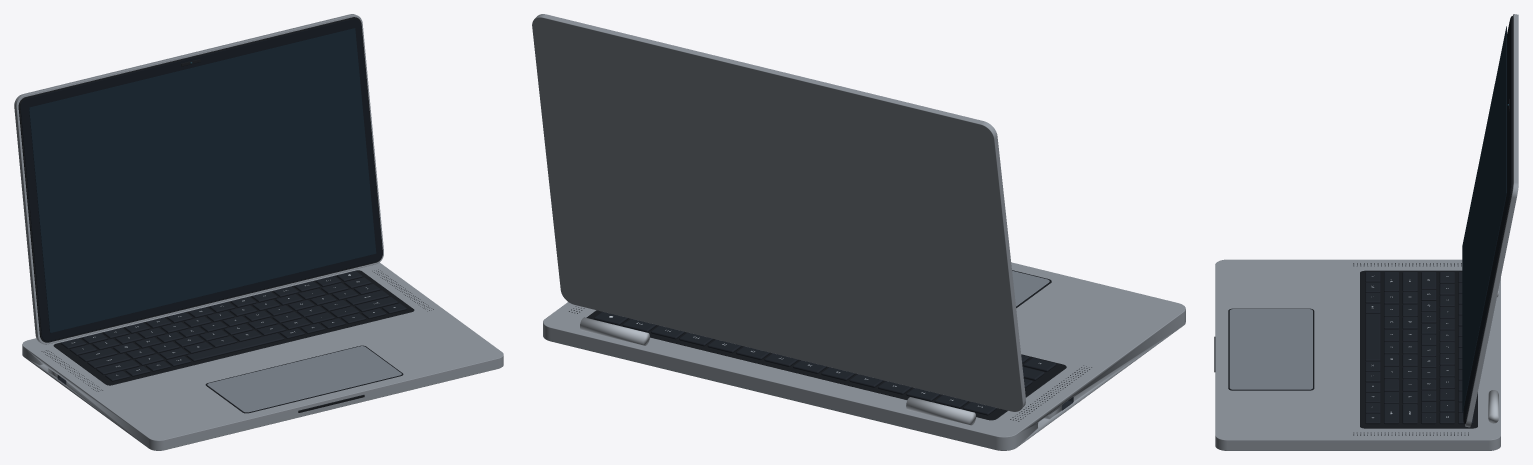
Rendered from laptop.glb.
3 renders of one model, left to right at view 1: azimuth 30°, elevation 25°; view 2: azimuth 150°, elevation 25°; view 3: azimuth 270°, elevation 25°, orthographic. The views are drawn at different scales.
Parts seen in each view (by area): view 1: Screen plane • DOM alignment, 01 • Unibody shell, Key • combined, Display glass surround, Trackpad matte glass, Keyboard recessed bed, Display aluminium lid, Display edge seal, Trackpad precision seam; view 2: Display aluminium lid, 01 • Unibody shell, Key • combined, Keyboard recessed bed, Hinge barrel.001, Hinge barrel, Trackpad matte glass; view 3: 01 • Unibody shell, Key • combined, Screen plane • DOM alignment, Trackpad matte glass, Keyboard recessed bed, Display aluminium lid, Display glass surround, Display edge seal, Trackpad precision seam, Hinge barrel.001.
Part boxes in pixels (bbox=[...]): Screen plane • DOM alignment: bbox=[29, 28, 376, 333]; 01 • Unibody shell: bbox=[22, 262, 503, 450]; Key • combined: bbox=[60, 271, 406, 381]; Display glass surround: bbox=[20, 18, 382, 341]; Trackpad matte glass: bbox=[207, 346, 401, 412]; Keyboard recessed bed: bbox=[53, 270, 414, 385]; Display aluminium lid: bbox=[14, 14, 383, 344]; Display edge seal: bbox=[18, 17, 382, 342]; Trackpad precision seam: bbox=[205, 345, 403, 413]; Display aluminium lid: bbox=[532, 14, 1025, 411]; 01 • Unibody shell: bbox=[543, 262, 1185, 450]; Key • combined: bbox=[594, 311, 1056, 415]; Keyboard recessed bed: bbox=[586, 310, 1066, 420]; Hinge barrel.001: bbox=[580, 317, 649, 345]; Hinge barrel: bbox=[906, 397, 975, 425]; Trackpad matte glass: bbox=[1012, 270, 1049, 306]; 01 • Unibody shell: bbox=[1215, 259, 1500, 450]; Key • combined: bbox=[1365, 272, 1473, 424]; Screen plane • DOM alignment: bbox=[1462, 26, 1506, 412]; Trackpad matte glass: bbox=[1229, 309, 1312, 389]; Keyboard recessed bed: bbox=[1360, 270, 1477, 428]; Display aluminium lid: bbox=[1465, 14, 1518, 427]; Display glass surround: bbox=[1463, 17, 1511, 422]; Display edge seal: bbox=[1464, 16, 1513, 424]; Trackpad precision seam: bbox=[1228, 308, 1314, 390]; Hinge barrel.001: bbox=[1488, 390, 1498, 423].
Size of the model in its own units: 0.492 by 0.3349 by 0.3507.
